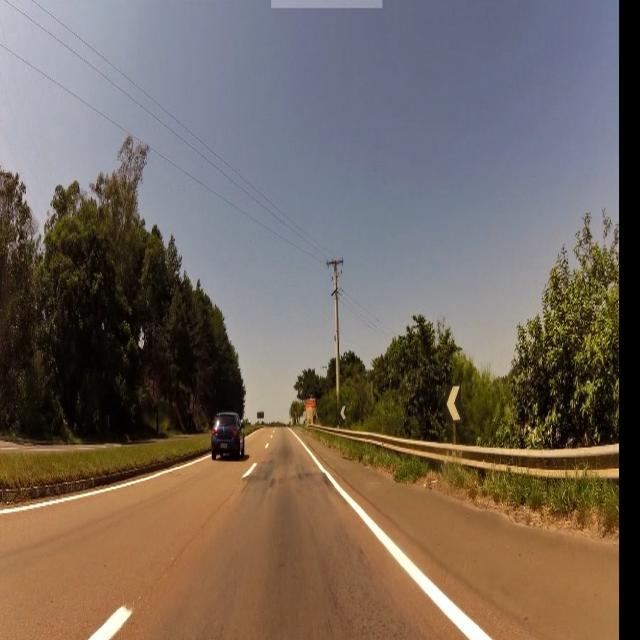Del: (446, 382, 462, 424)
